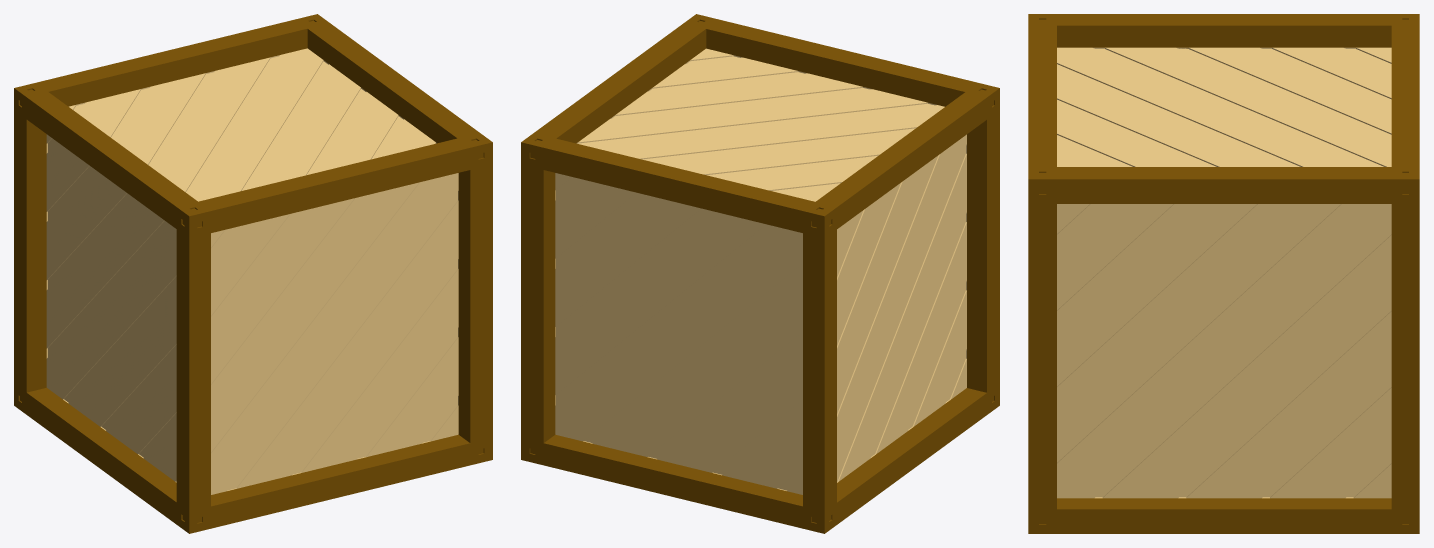
Rendered from Crate.fbx.
The picture shows the model from 3 angles, left to right: view 1: azimuth 30°, elevation 25°; view 2: azimuth 150°, elevation 25°; view 3: azimuth 270°, elevation 25°; orthographic projection. The views are drawn at different scales.
Visible parts, largest first — view 1: Cube, Cube.001, Cube.004, Cube.005; view 2: Cube, Cube.002, Cube.004, Cube.005; view 3: Cube.003, Cube, Cube.005.
Boxes of the visible parts, <box> form: Cube: <box>14,14,492,533</box>; Cube.001: <box>211,173,458,494</box>; Cube.004: <box>46,134,176,482</box>; Cube.005: <box>69,48,436,201</box>; Cube: <box>521,14,999,533</box>; Cube.002: <box>555,173,802,494</box>; Cube.004: <box>837,134,966,482</box>; Cube.005: <box>576,48,944,201</box>; Cube.003: <box>1057,204,1391,498</box>; Cube: <box>1028,14,1419,533</box>; Cube.005: <box>1057,47,1391,166</box>.
Bounding box in the file's own units: 100 × 100 × 100.
